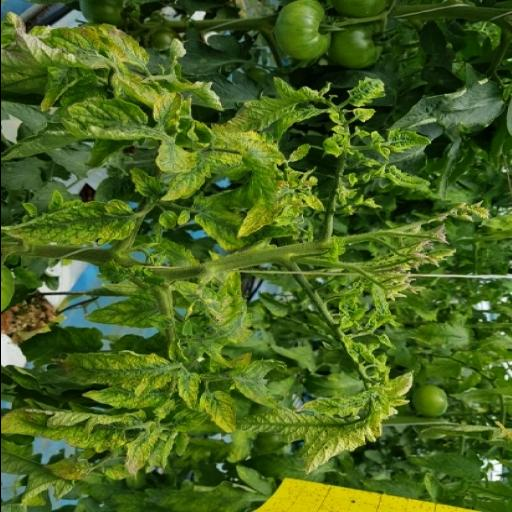Yellow Leaf Curl Virus: (5, 6, 149, 76), (238, 408, 378, 474), (0, 196, 144, 250), (0, 405, 141, 456), (48, 346, 180, 396), (214, 74, 318, 134), (46, 98, 152, 142), (220, 196, 288, 240), (162, 154, 216, 208), (119, 417, 163, 483), (81, 296, 165, 330), (199, 386, 235, 434), (152, 137, 194, 177), (144, 89, 185, 121), (382, 128, 430, 154)
